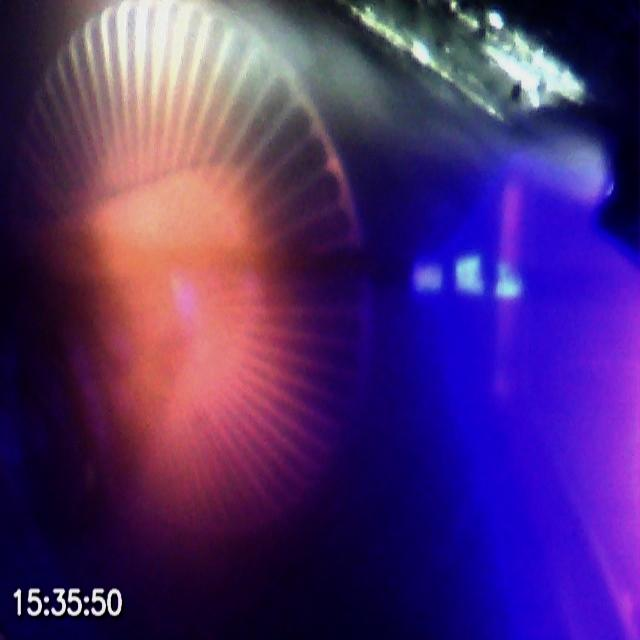white-dots: (411, 254, 525, 302)
